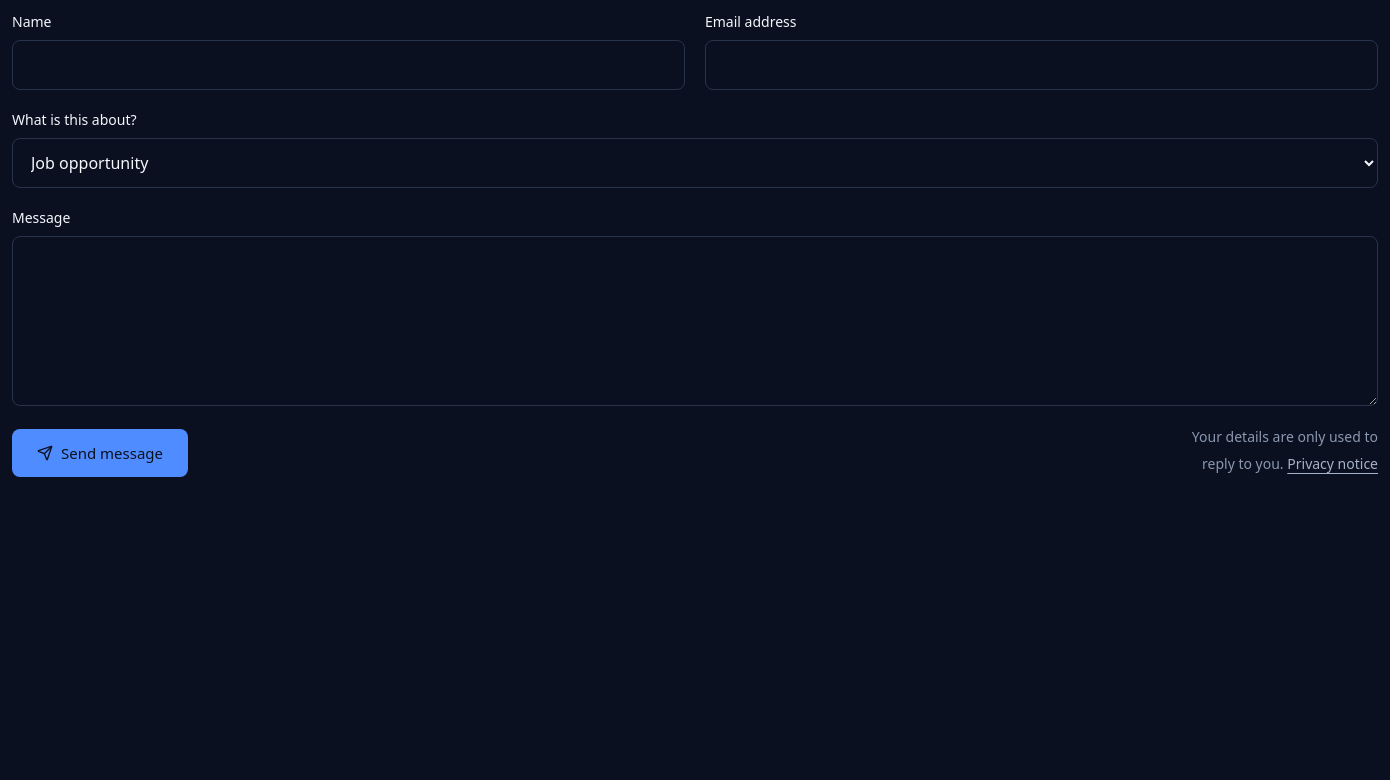
ContactForm › shows inline errors and does not submit when required fields are empty
Click the button "Send message" at {"x": 100, "y": 453}, box [12,429,188,477]
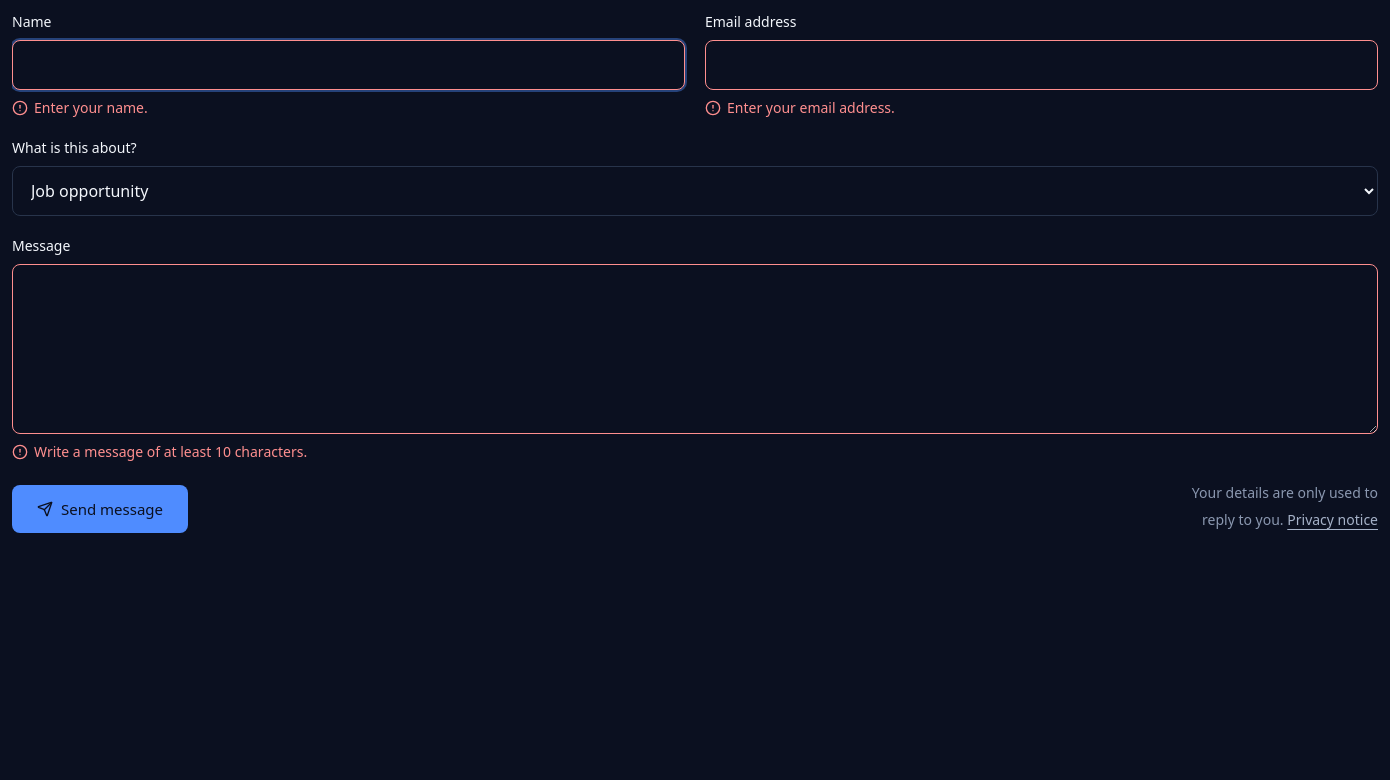
Expected: the text "Enter your name." is shown, [12,98,148,117]
Expected: the text "Enter your email address." is shown, [705,98,895,117]
Expected: the text "Write a message of at least 10 characters." is shown, [12,442,307,461]
